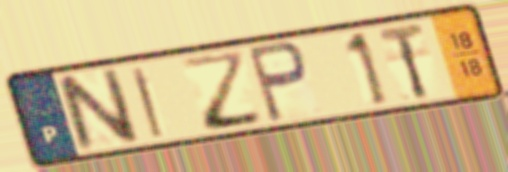1: (342, 29, 392, 108)
I: (127, 63, 167, 141)
N: (51, 64, 144, 155)
P: (243, 38, 311, 125)
T: (374, 19, 432, 103)
Z: (177, 47, 268, 134)
